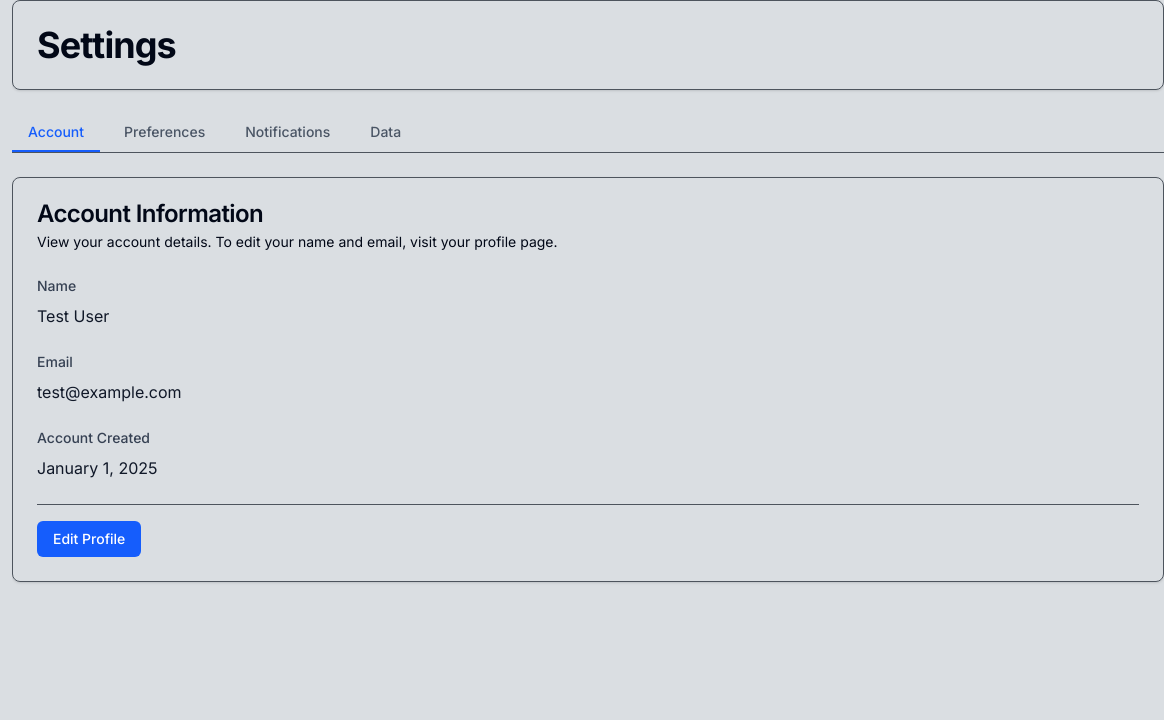
SettingsPage › should switch to Preferences section when Preferences tab is clicked
Expected: the heading "Account Information" is shown, 37,199 -> 263,228
Click the button "Preferences": (165,133) 108,114 -> 221,152
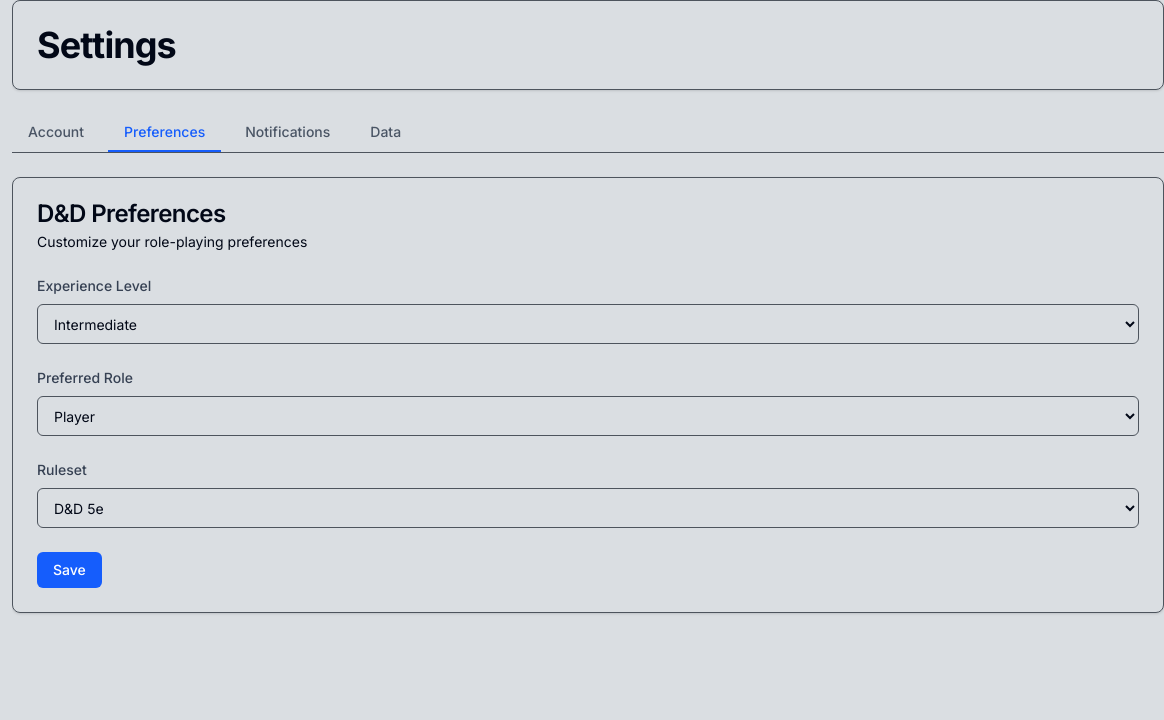
Now the heading "D&D Preferences" is shown, box 37,199 -> 226,228
